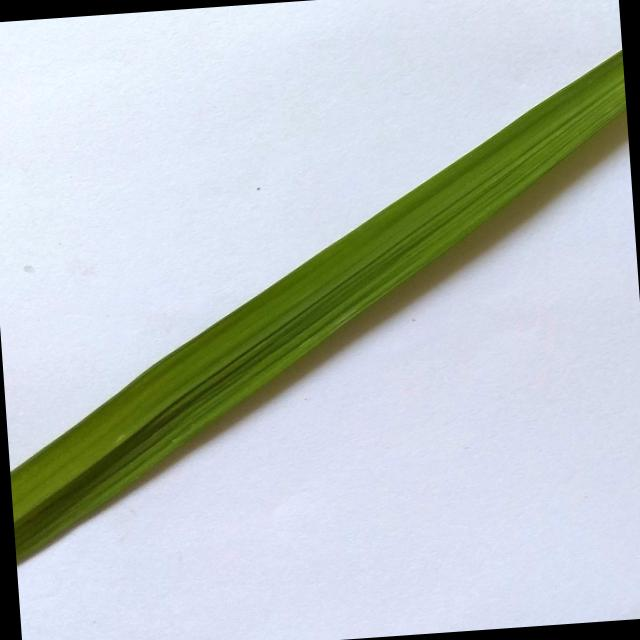Rice_Healthy: (10, 50, 626, 557)
